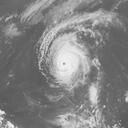cyclone: (41, 32, 90, 88)
